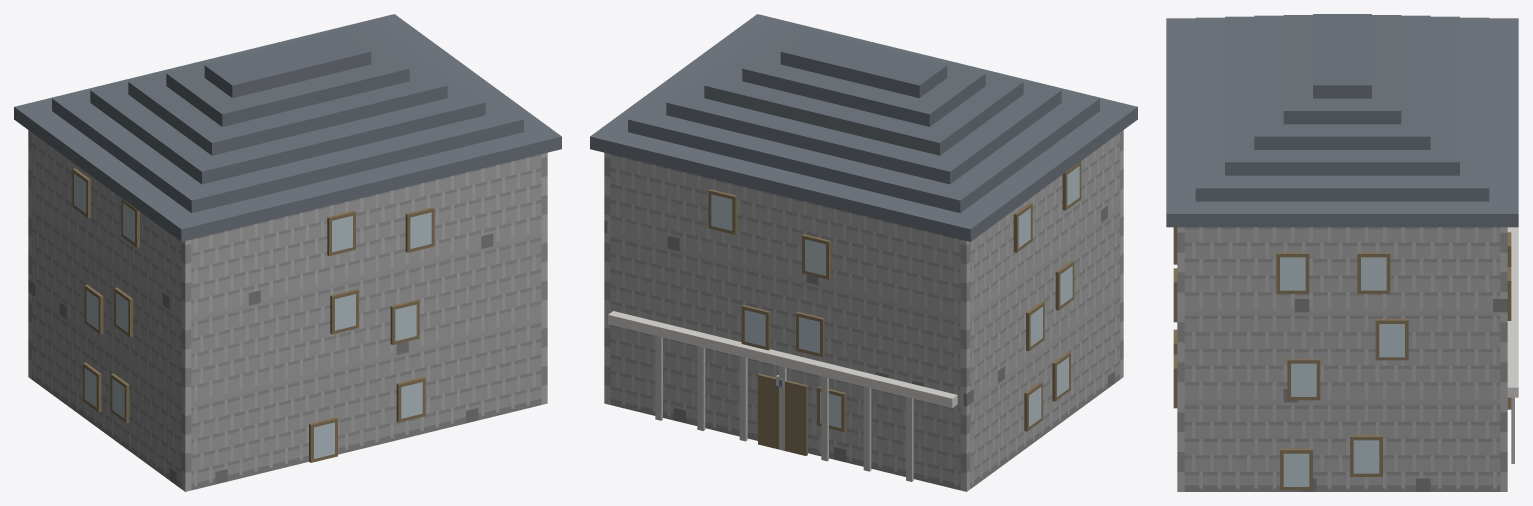
Rendered from academia_arcana_03.glb.
3 renders of one model, left to right at view 1: azimuth 30°, elevation 25°; view 2: azimuth 150°, elevation 25°; view 3: azimuth 270°, elevation 25°, orthographic. The views are drawn at different scales.
Visible parts, largest first — view 1: academia_arcana_03; view 2: academia_arcana_03; view 3: academia_arcana_03.
Boxes of the visible parts, <box> form: academia_arcana_03: <box>14,14,561,491</box>; academia_arcana_03: <box>590,14,1137,491</box>; academia_arcana_03: <box>1166,14,1518,491</box>.
Bounding box in the file's own units: 12.6 × 10.5 × 9.6.
